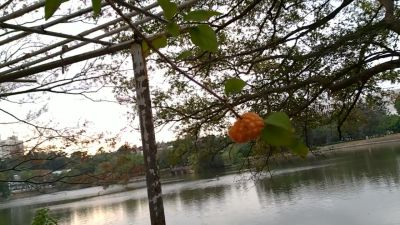eggs: (227, 110, 266, 143)
